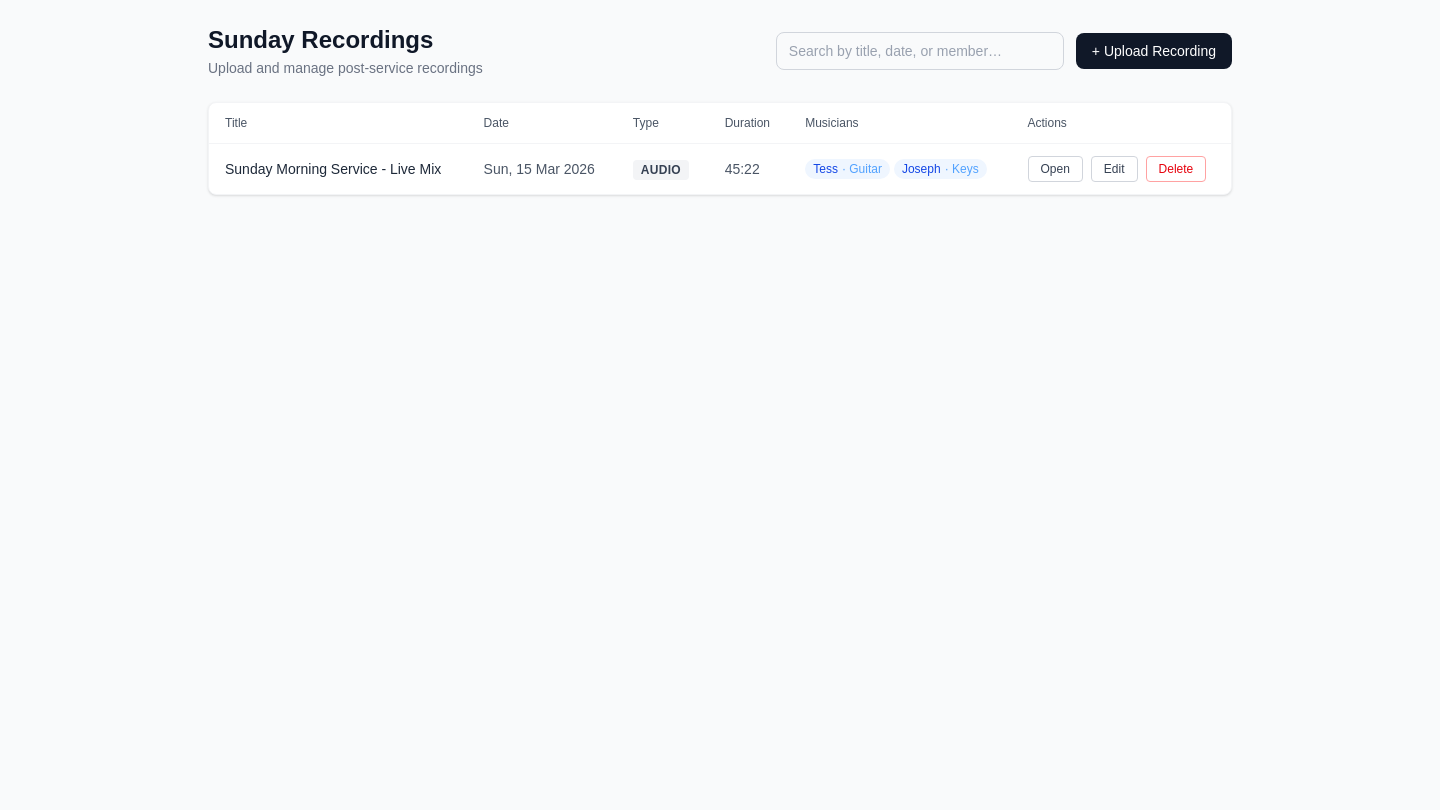
Test: AdminRecordingsPage › opens Edit Recording modal pre-populated with recording data
Click the button "Edit" at (1114, 169), box x1=1091 y1=156 x2=1138 y2=182
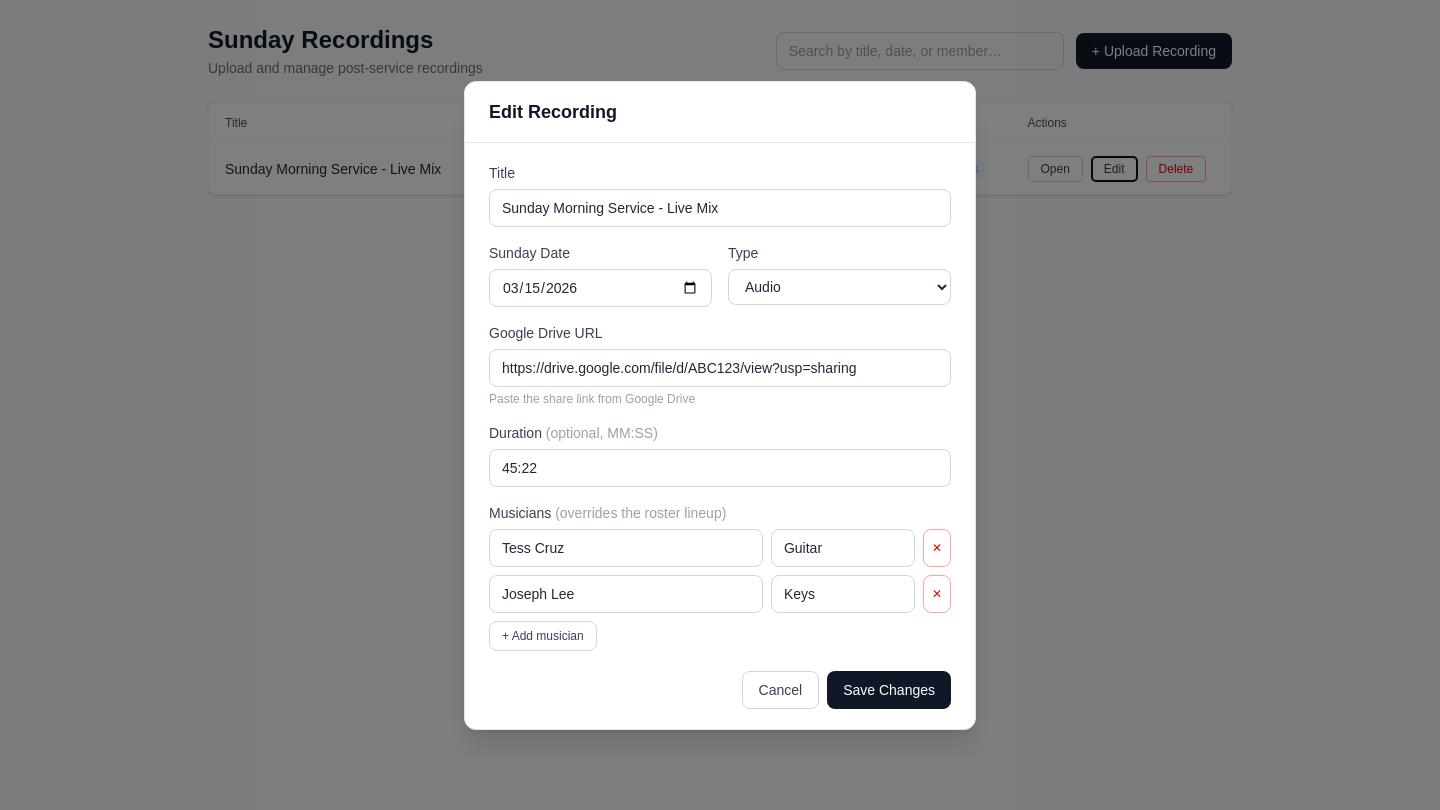
Check: the heading "Edit Recording" is shown, box x1=489 y1=102 x2=617 y2=122
Check: the 1st field showing "Sunday Morning Service - Live Mix" is shown, box x1=489 y1=188 x2=951 y2=226
Check: the field showing "https://drive.google.com/file/d/ABC123/view?usp=sharing" below "Google Drive URL" is shown, box x1=489 y1=348 x2=951 y2=386
